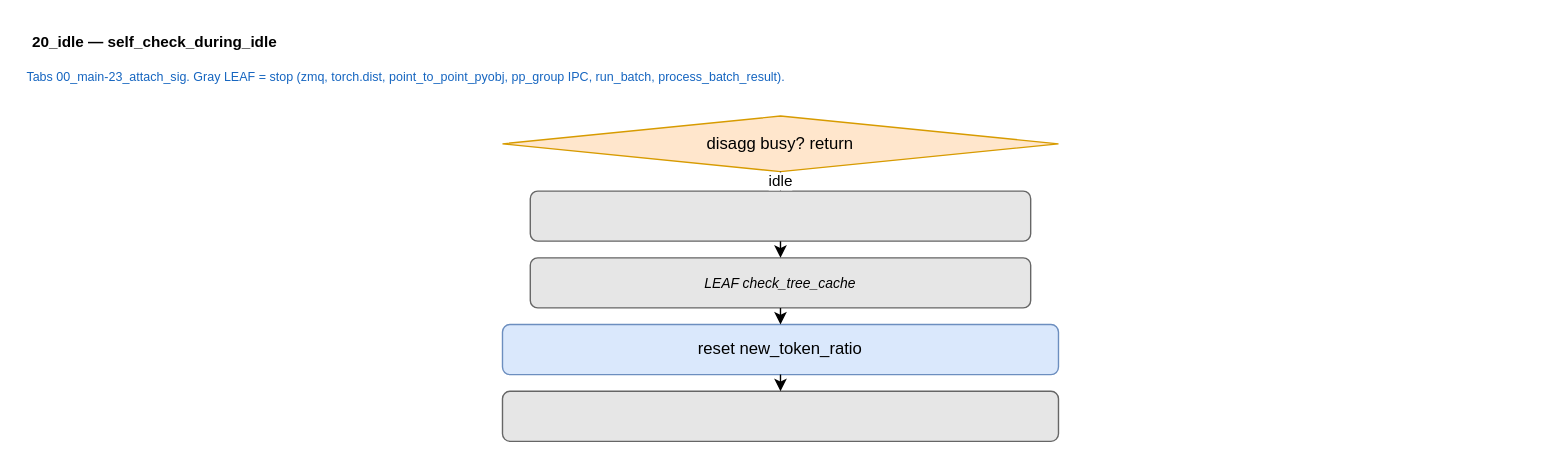
The diagram is 1560 pixels wide and 466 high, and some of its shapes have lost their labels. The shapes that lost their labels are listed below. From the top down, each one's centre as x and y in pixels, then its label:
the point at 780,215: LEAF check_memory
the point at 779,415: LEAF maybe_sleep_on_idle
